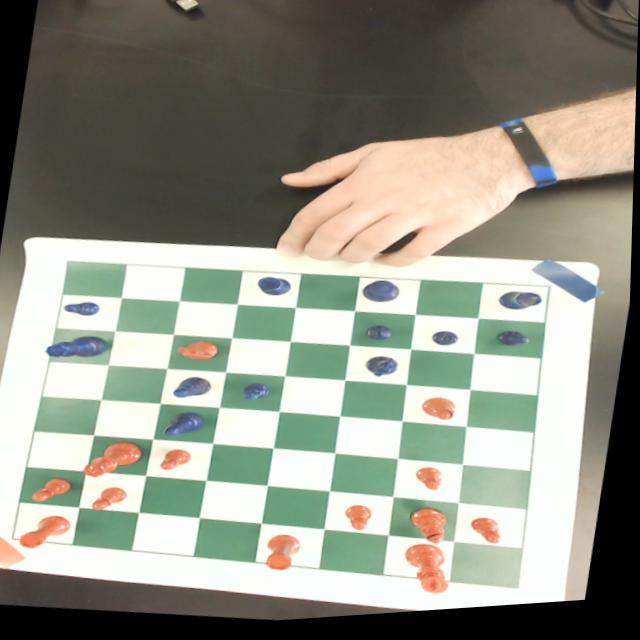B: (164, 411, 208, 443), (173, 376, 214, 404)
K: (360, 281, 404, 311)
N: (360, 356, 403, 387)
P: (61, 299, 102, 321), (495, 335, 534, 357), (241, 384, 274, 406), (364, 328, 397, 348), (431, 335, 460, 354)
Q: (44, 331, 109, 365)
R: (494, 294, 543, 321), (256, 278, 293, 302)
b: (408, 510, 455, 553), (422, 400, 460, 428)
k: (402, 546, 458, 603)
n: (175, 339, 221, 367)
p: (33, 476, 74, 506), (92, 485, 130, 517), (470, 522, 507, 552), (344, 507, 379, 538), (160, 448, 193, 476), (415, 471, 447, 498)
q: (83, 438, 146, 485)
r: (19, 511, 74, 554), (264, 535, 303, 577)
